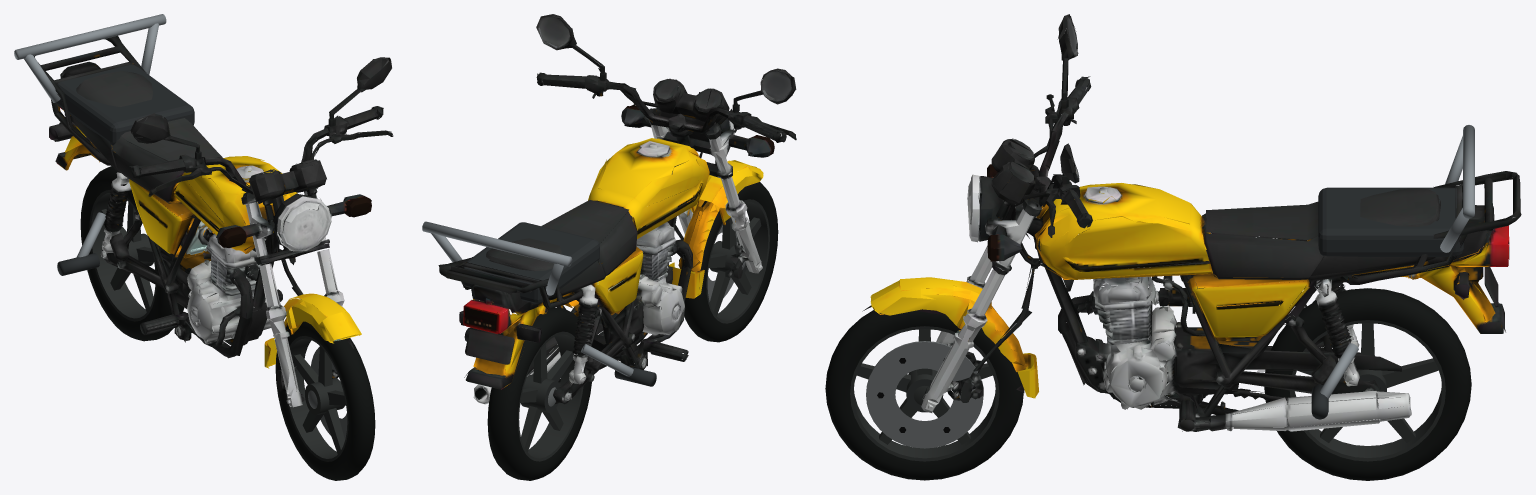
Rendered from moto-passenger-2.glb.
The picture shows the model from 3 angles, left to right: view 1: azimuth 30°, elevation 25°; view 2: azimuth 150°, elevation 25°; view 3: azimuth 270°, elevation 25°; orthographic projection. The views are drawn at different scales.
Parts seen in each view (by area): view 1: Frota_moto, Fork, Tyre_Front, Tyre_Rear, PassengerSeatCushion, PassengerGrabBar, PassengerFootrest_R, PassengerGrabSupport_R, PassengerPegSupport_R, PassengerGrabSupport_L; view 2: Frota_moto, Fork, Tyre_Rear, Tyre_Front, PassengerSeatCushion, PassengerGrabBar, PassengerPegSupport_R, PassengerFootrest_R; view 3: Frota_moto, Fork, Tyre_Front, Tyre_Rear, PassengerSeatCushion, PassengerGrabBar.
Part boxes in pixels (bbox=[...]): Frota_moto: bbox=[34, 35, 297, 358]; Fork: bbox=[129, 57, 393, 407]; Tyre_Front: bbox=[275, 321, 375, 480]; Tyre_Rear: bbox=[80, 166, 184, 341]; PassengerSeatCushion: bbox=[56, 64, 194, 145]; PassengerGrabBar: bbox=[14, 14, 166, 59]; PassengerFootrest_R: bbox=[57, 253, 99, 275]; PassengerGrabSupport_R: bbox=[24, 54, 60, 102]; PassengerPegSupport_R: bbox=[76, 212, 105, 257]; PassengerGrabSupport_L: bbox=[141, 23, 158, 74]; Frota_moto: bbox=[438, 116, 709, 404]; Fork: bbox=[536, 14, 796, 298]; Tyre_Rear: bbox=[487, 307, 591, 480]; Tyre_Front: bbox=[684, 182, 778, 342]; PassengerSeatCushion: bbox=[461, 222, 599, 303]; PassengerGrabBar: bbox=[422, 221, 572, 266]; PassengerPegSupport_R: bbox=[581, 344, 633, 376]; PassengerFootrest_R: bbox=[614, 367, 656, 386]; Frota_moto: bbox=[1019, 167, 1521, 431]; Fork: bbox=[862, 14, 1092, 412]; Tyre_Front: bbox=[825, 310, 1023, 480]; Tyre_Rear: bbox=[1264, 288, 1471, 480]; PassengerSeatCushion: bbox=[1318, 187, 1463, 256]; PassengerGrabBar: bbox=[1463, 125, 1474, 218].
Size of the model in its own units: 1.03 by 1.29 by 2.06.
Materials: 3 (1 with a texture image).
